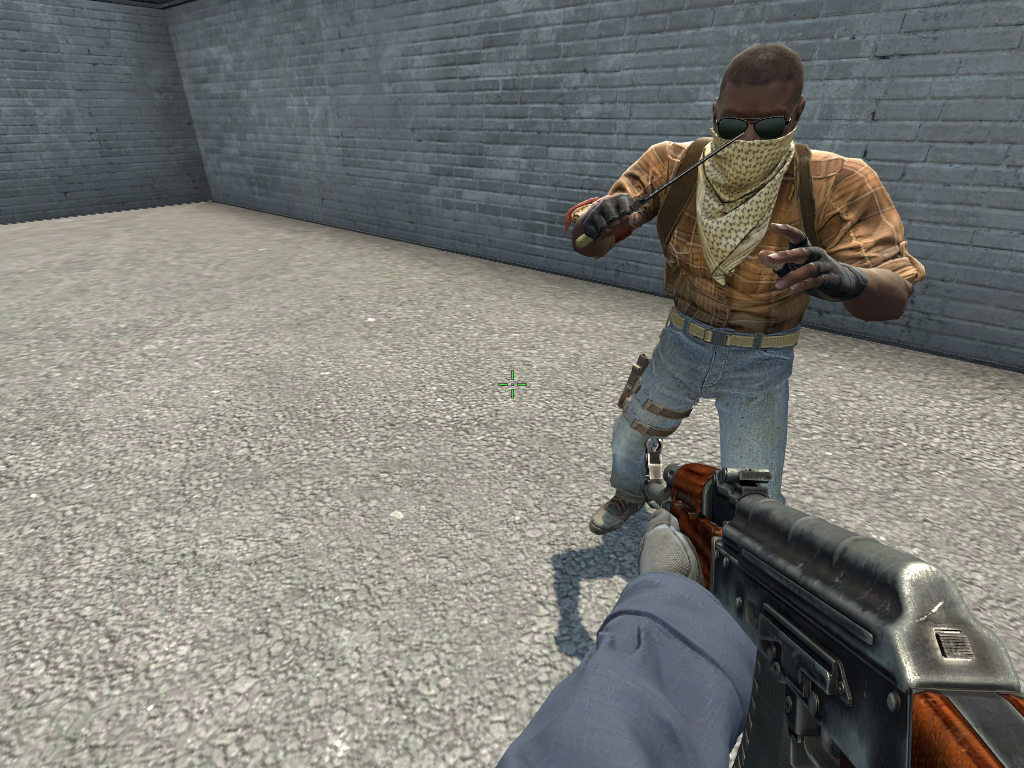tr head: (711, 47, 803, 184)
